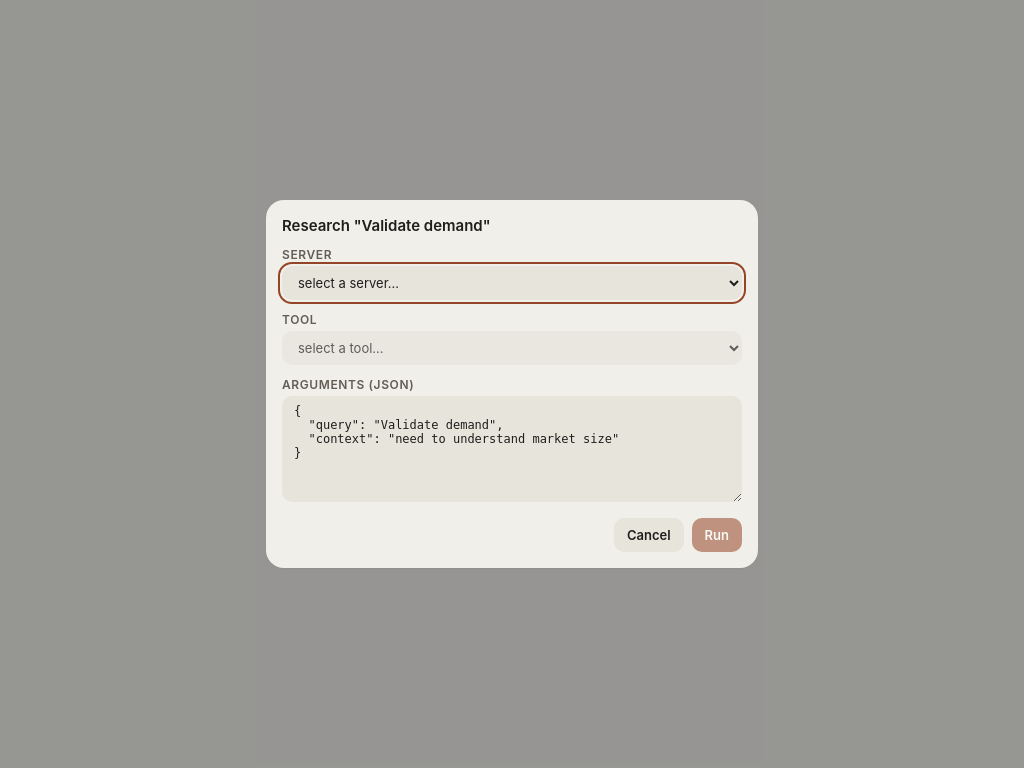
Test case: ResearchRunDialog › the spend-preflight fetches and shows the effective trustListPolicies for the picked server's scope
The width and height of the screenshot is (1024, 768).
Select "Prowl" in the dropdown with test id "research-run-server-select" at (512, 283), box [282,266,742,300]
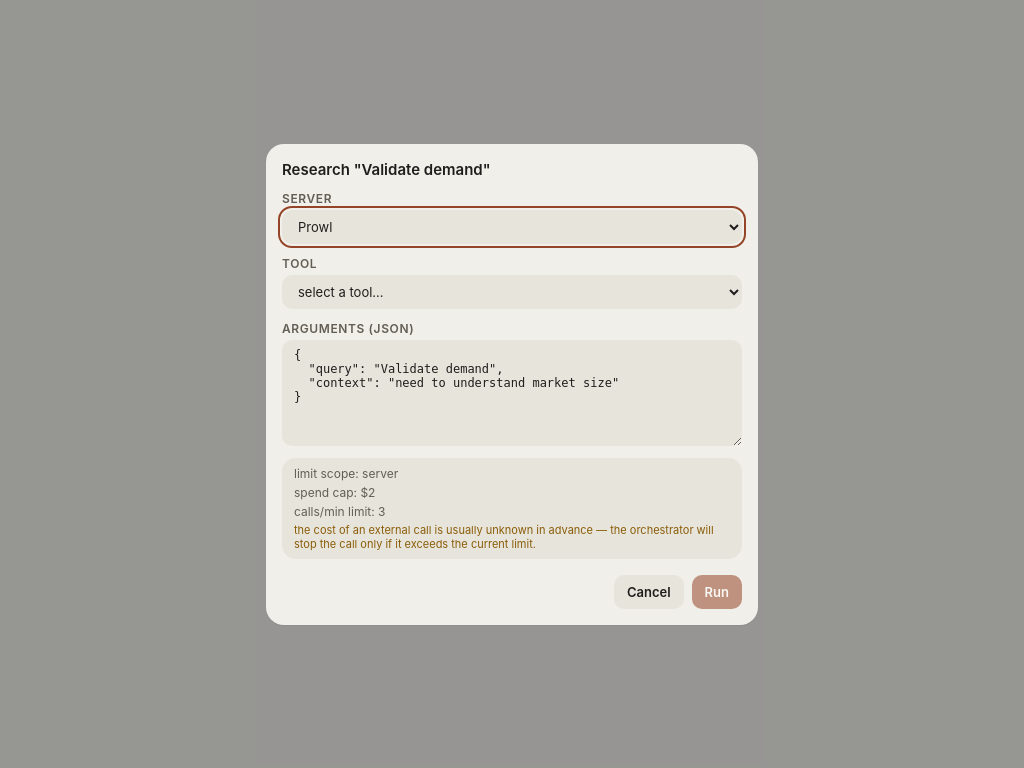
Expected: the text with test id "research-run-policy-spend-cap" shows "2", [360,484,375,500]
